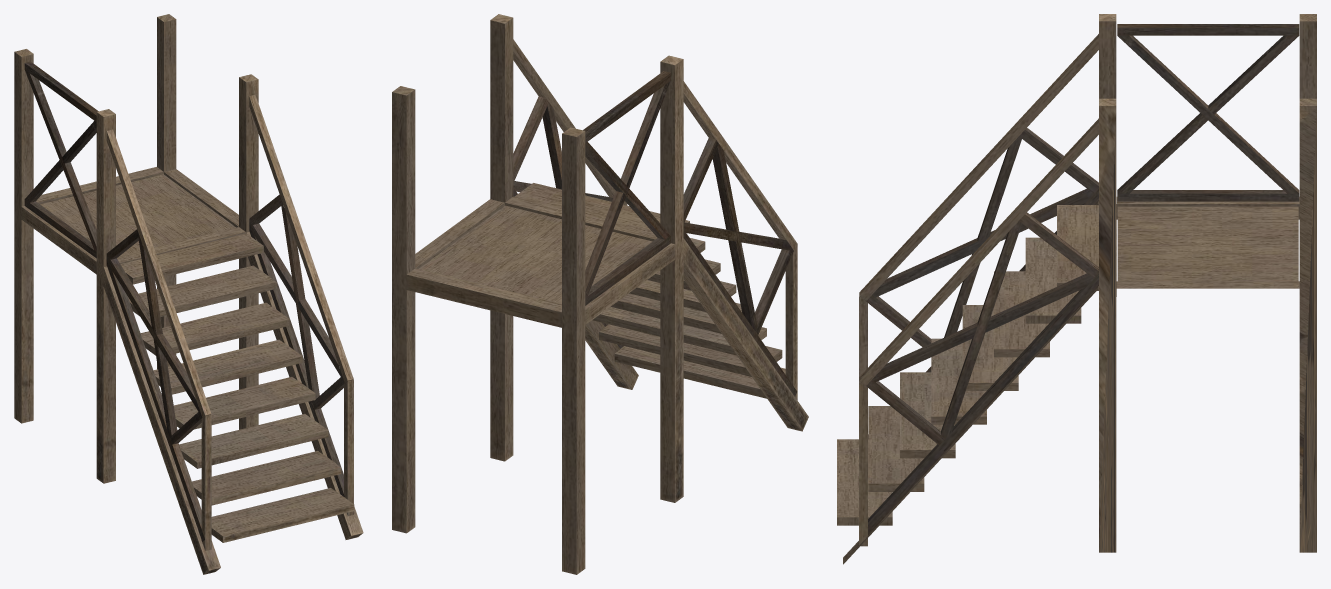
The model's file is wood_stairs.glb.
The picture shows the model from 3 angles, left to right: view 1: azimuth 30°, elevation 25°; view 2: azimuth 150°, elevation 25°; view 3: azimuth 270°, elevation 25°; orthographic projection. The views are drawn at different scales.
Visible parts, largest first — view 1: wooden_stairs; view 2: wooden_stairs; view 3: wooden_stairs.
Boxes of the visible parts, box(x1,y1,x2,y2) form: wooden_stairs: box(14, 14, 363, 574); wooden_stairs: box(392, 14, 808, 574); wooden_stairs: box(837, 14, 1316, 564).
Bounding box in the file's own units: 1.35 × 3.2 × 2.97.
Materials: 1 (1 with a texture image).
